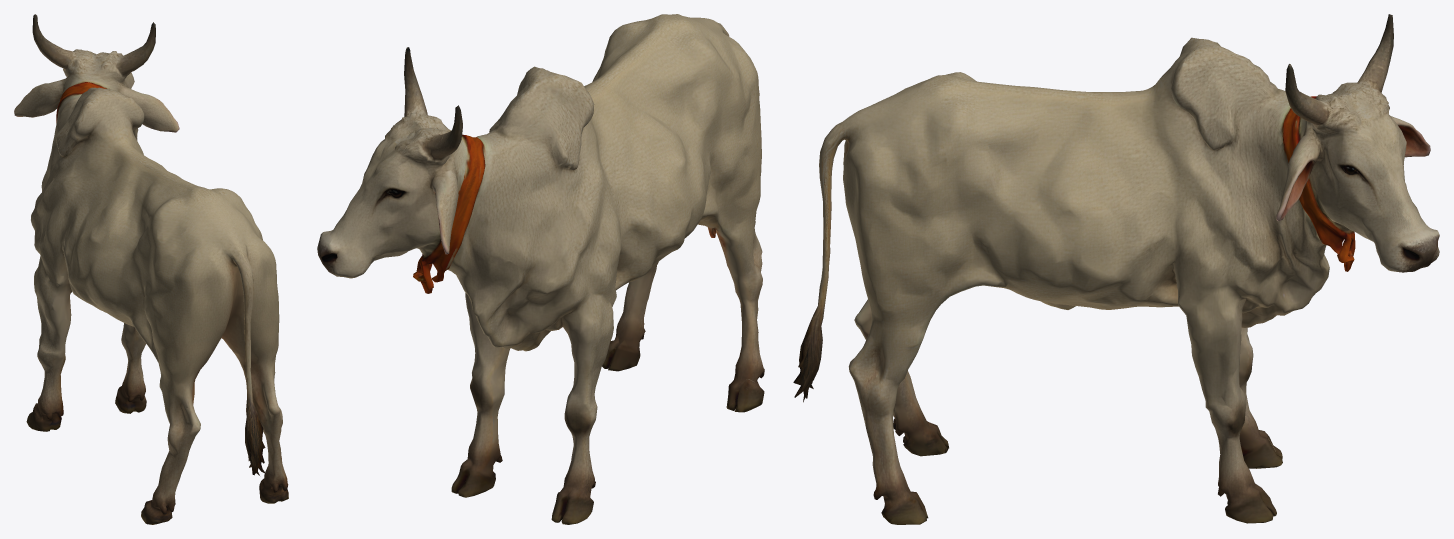
Rendered from a-sacred-indian-zebu-cow-of-varanasi-bos-cmv0rsuu.glb.
The picture shows the model from 3 angles, left to right: view 1: azimuth 30°, elevation 25°; view 2: azimuth 150°, elevation 25°; view 3: azimuth 270°, elevation 25°; orthographic projection. The views are drawn at different scales.
Parts seen in each view (by area): view 1: tripo_node_6a79519e-a5ce-4767-8430-b3bb8fa63dfc; view 2: tripo_node_6a79519e-a5ce-4767-8430-b3bb8fa63dfc; view 3: tripo_node_6a79519e-a5ce-4767-8430-b3bb8fa63dfc.
Part boxes in pixels (x1=…): tripo_node_6a79519e-a5ce-4767-8430-b3bb8fa63dfc: x1=14, y1=14, x2=288, y2=524; tripo_node_6a79519e-a5ce-4767-8430-b3bb8fa63dfc: x1=317, y1=14, x2=764, y2=524; tripo_node_6a79519e-a5ce-4767-8430-b3bb8fa63dfc: x1=793, y1=14, x2=1439, y2=524.
Bounding box in the file's own units: 0.4179 × 0.8136 × 1.
Materials: 1 (1 with a texture image).
